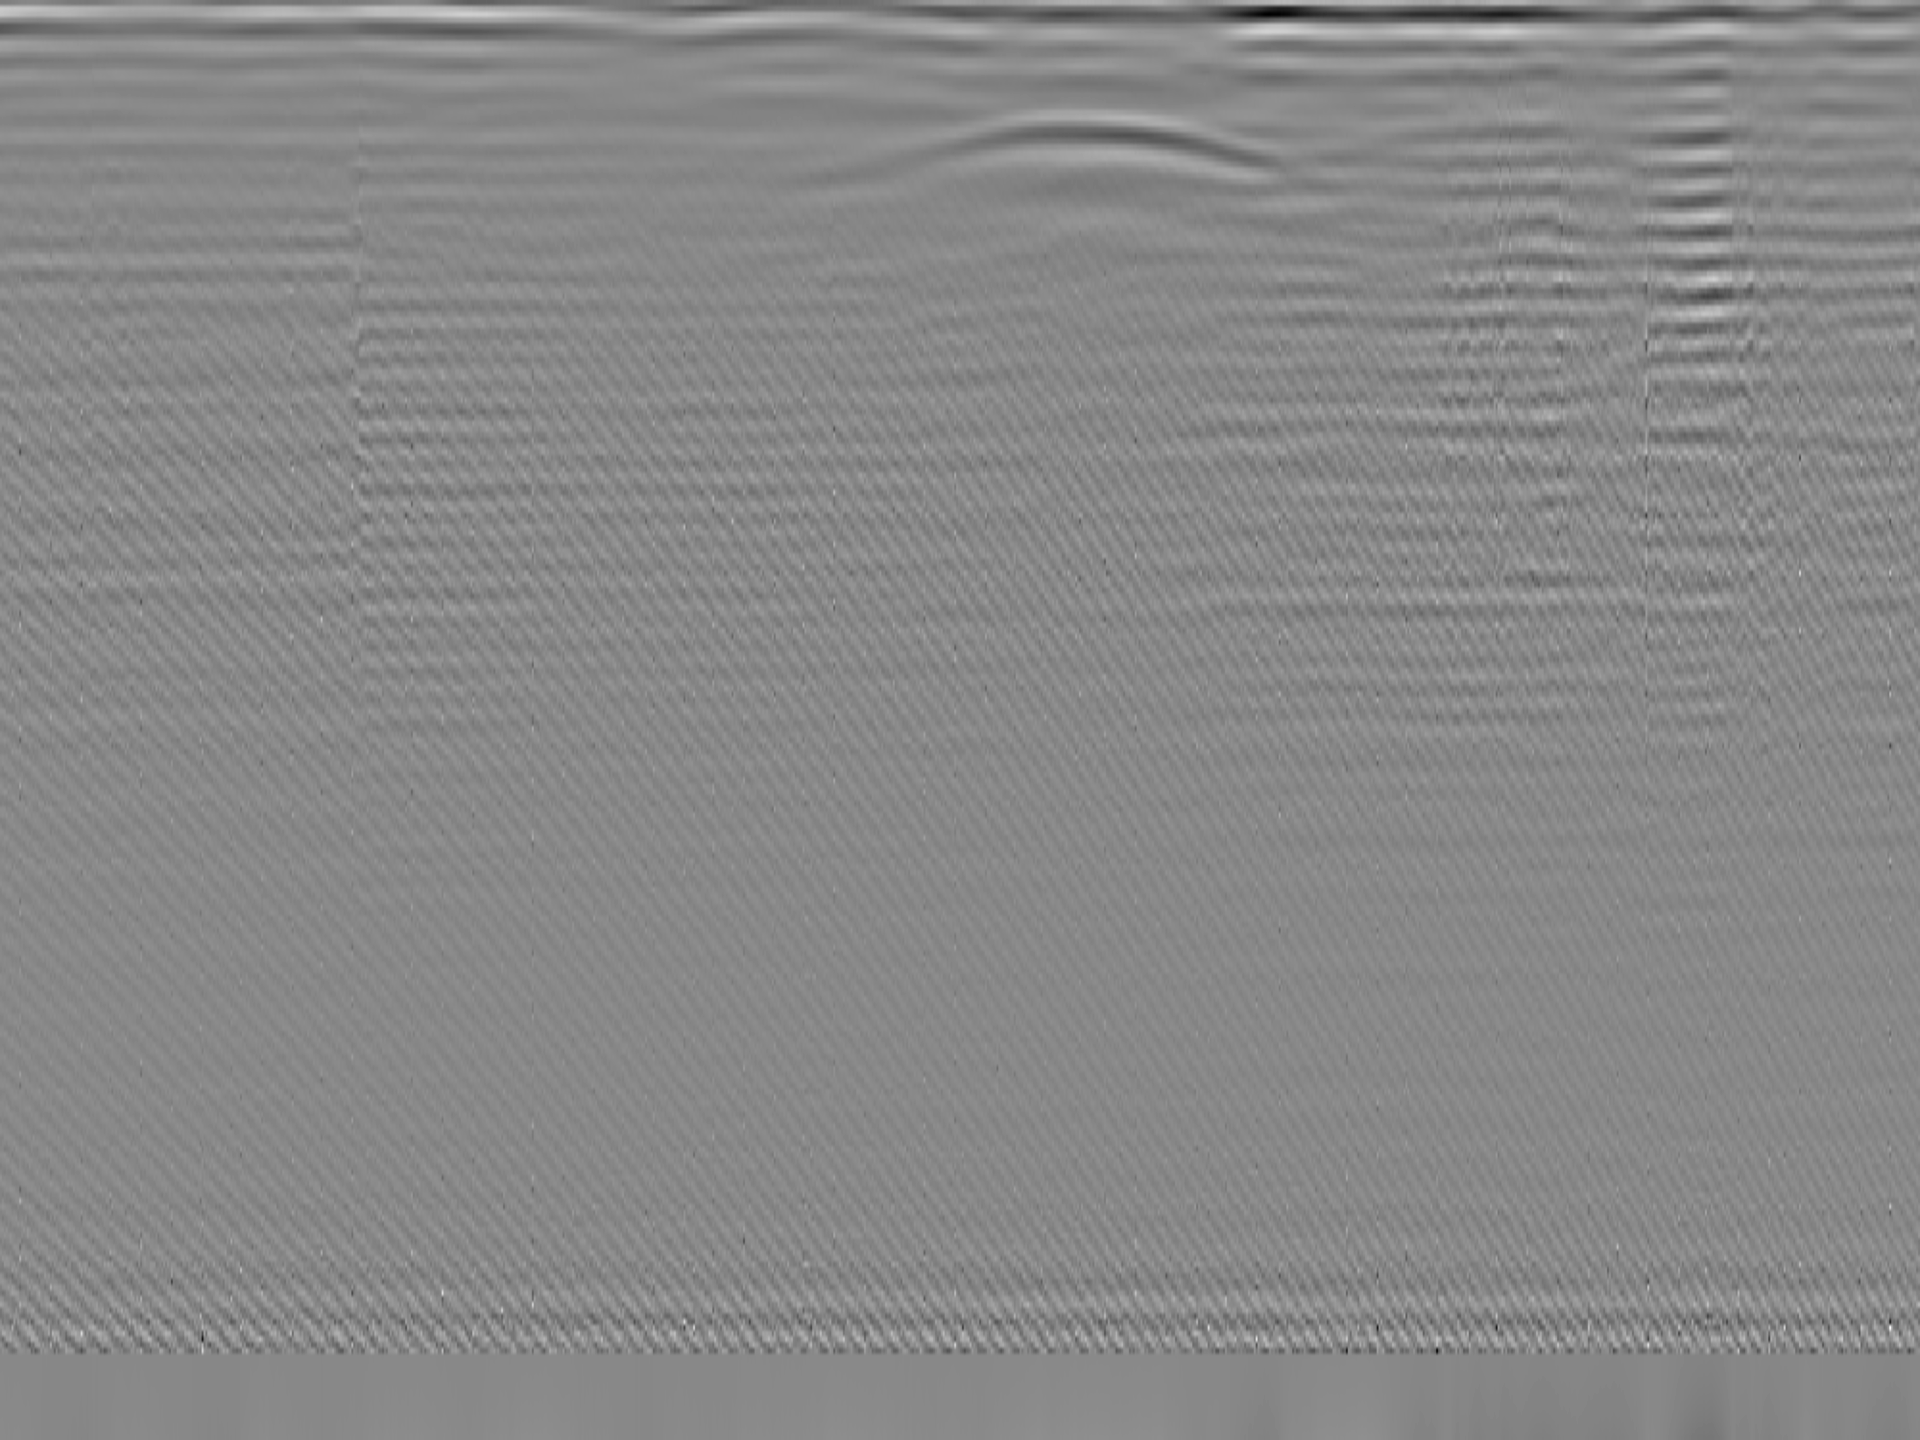Tunnel: (780, 106, 1336, 204)
